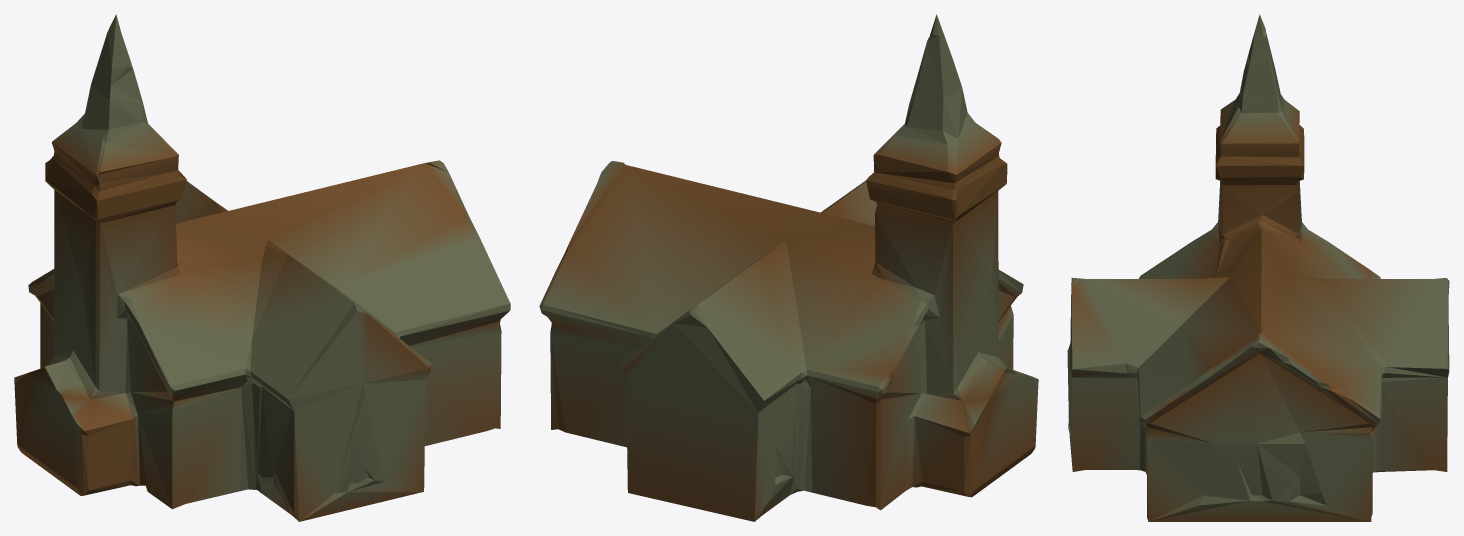
File: Churches(4).glb
The picture shows the model from 3 angles, left to right: view 1: azimuth 30°, elevation 25°; view 2: azimuth 150°, elevation 25°; view 3: azimuth 270°, elevation 25°; orthographic projection. The views are drawn at different scales.
Parts seen in each view (by area): view 1: Root; view 2: Root; view 3: Root.
Boxes of the visible parts, x1,y1,x2,y2 form: Root: [14, 14, 510, 521]; Root: [539, 14, 1038, 521]; Root: [1067, 14, 1449, 521].
Size of the model in its own units: 11.08 by 11.78 by 10.83.
